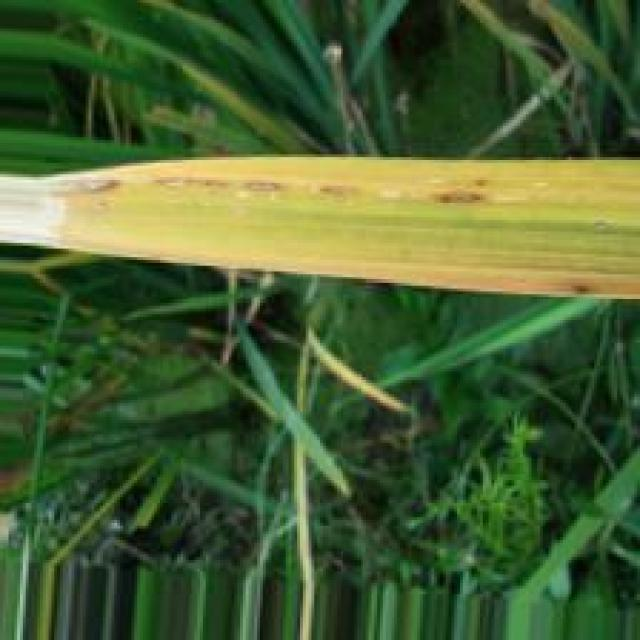Narrow_Brown_Leaf_Spot: (1, 154, 640, 297)
